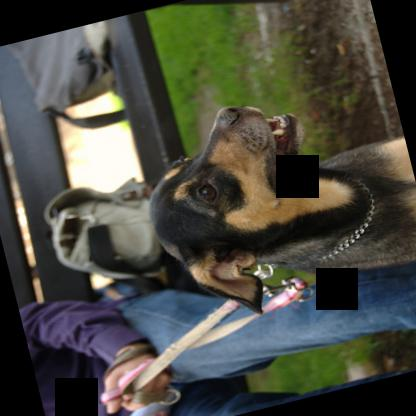handbag: (5, 19, 128, 127), (44, 180, 169, 278)
